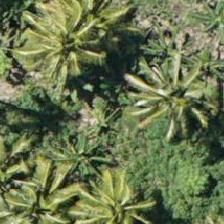coconut_tree: (26, 0, 116, 76), (0, 155, 80, 223)
